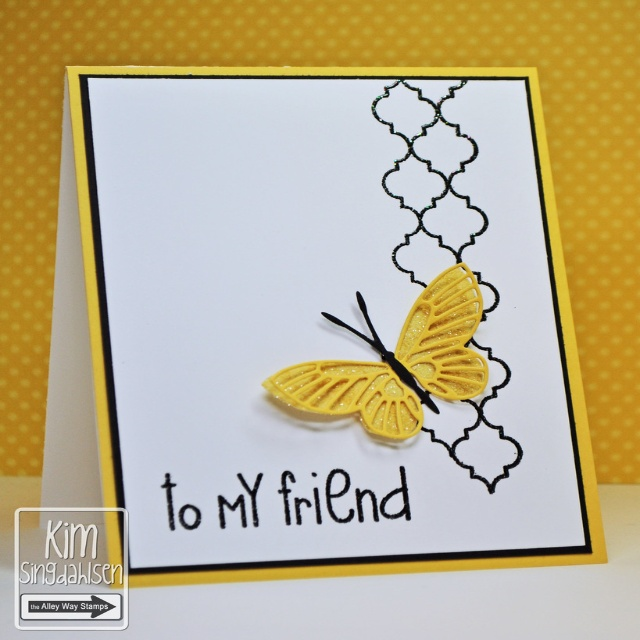Butterfly: (270, 267, 491, 455)
